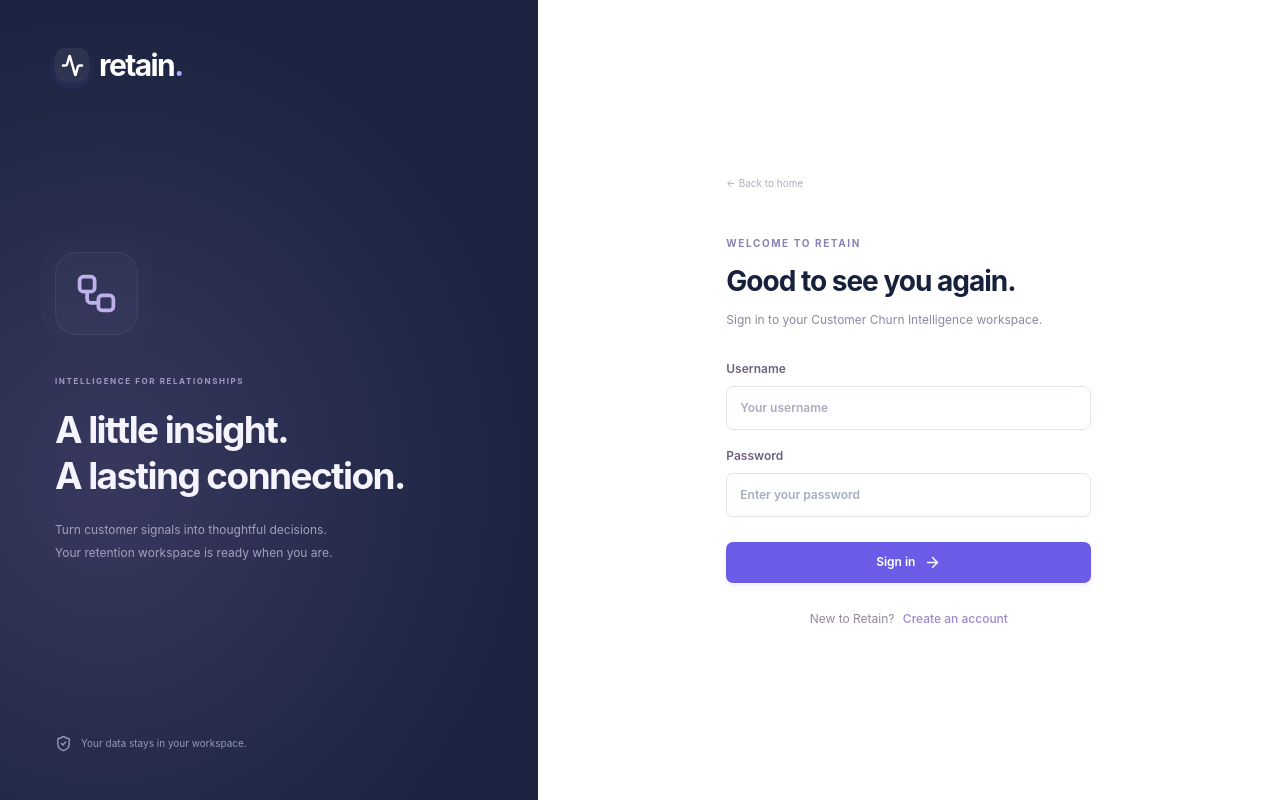
Test case: authentication › displays a rejected login
Type "analyst" into the field labelled "Username" at (909, 408), box [726,386,1091,430]
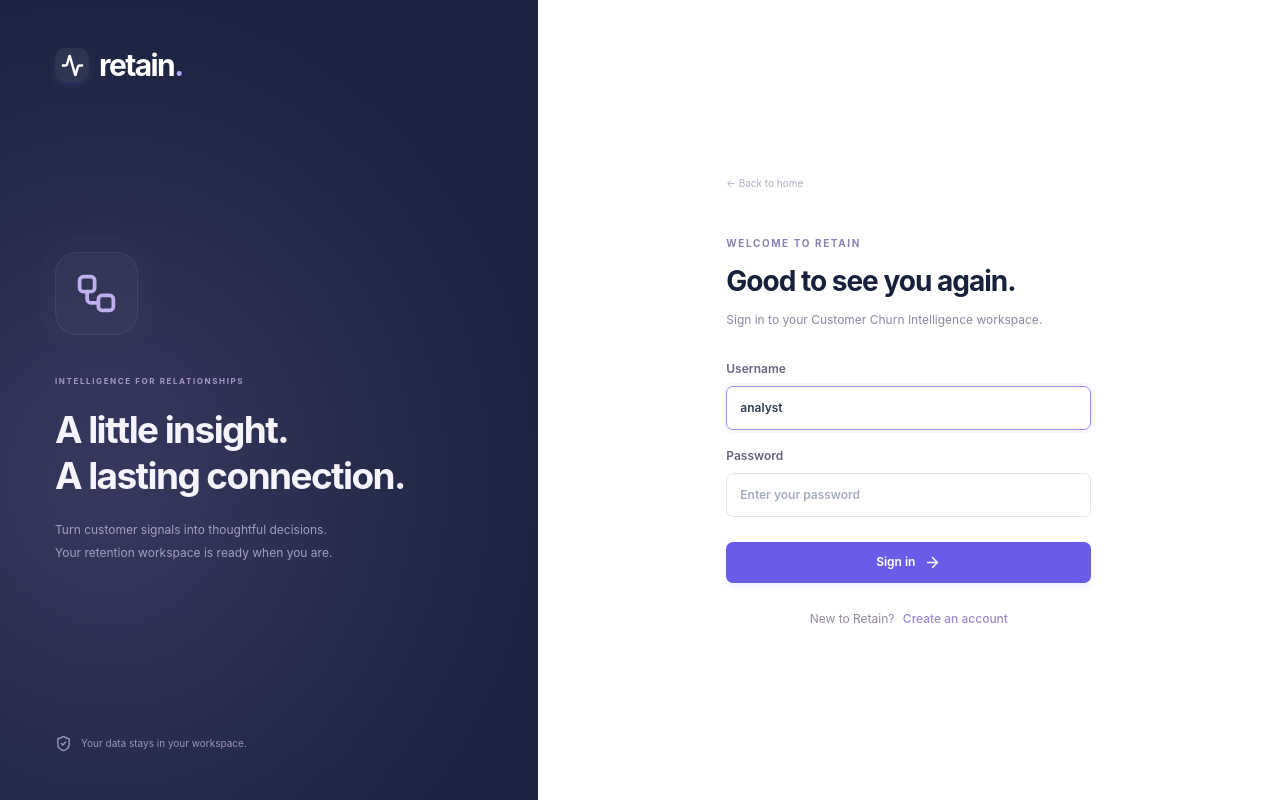
Type "bad" into the password field labelled "Password" at (909, 495), box [726,473,1091,517]
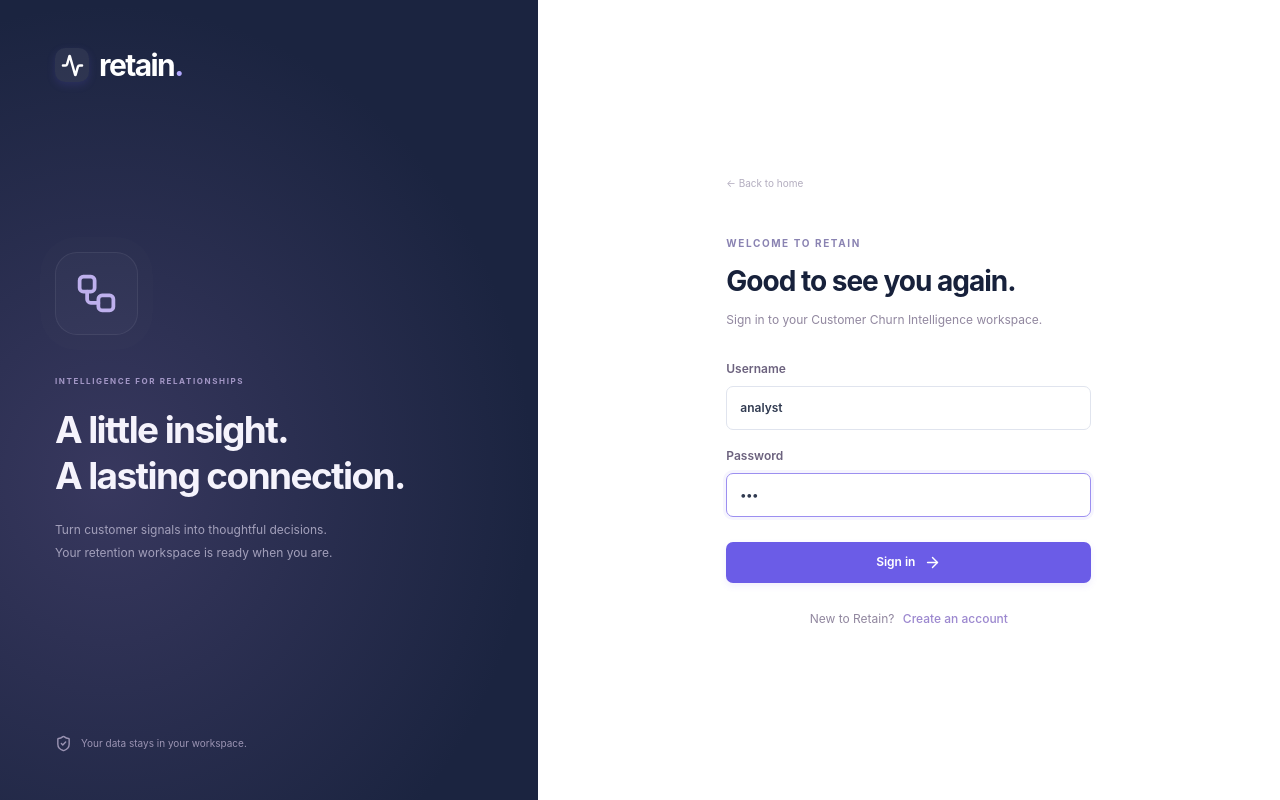
Click the button "Sign in" at (909, 562), box [726,542,1091,583]
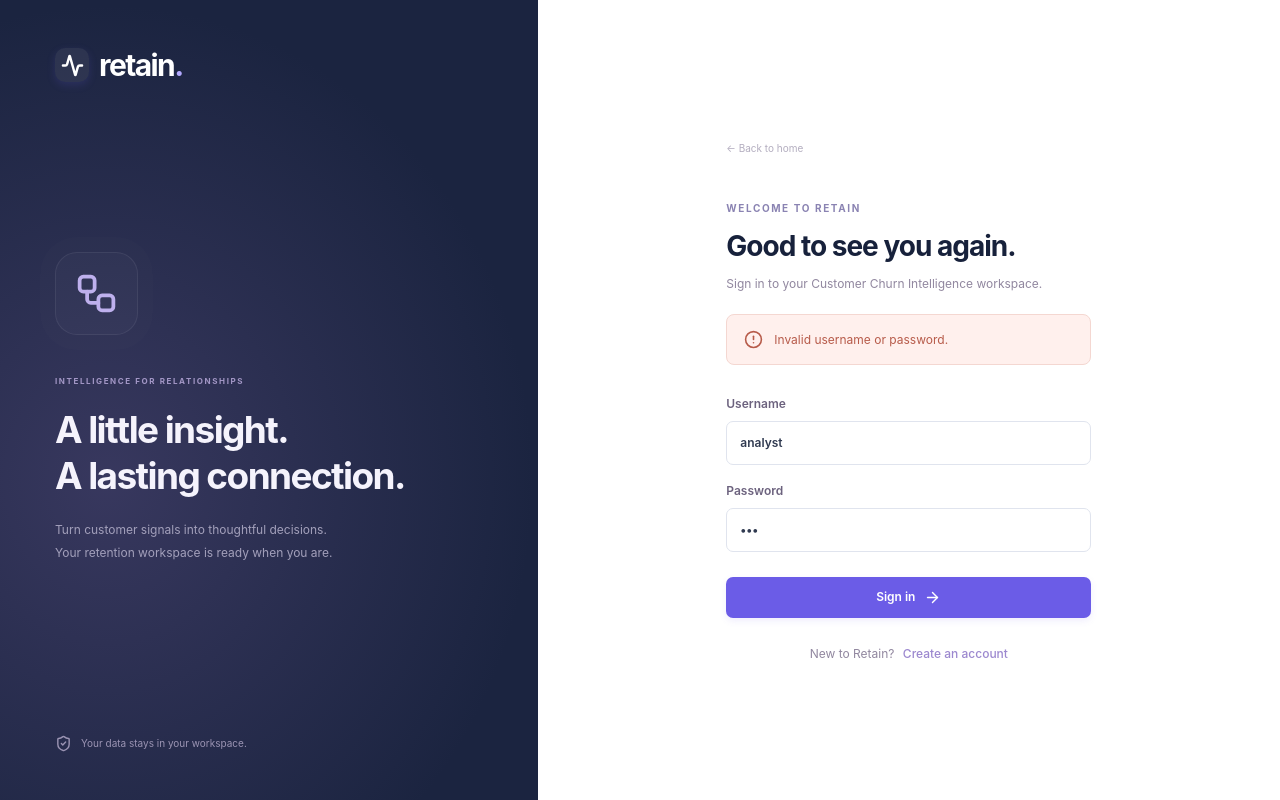
Expected: the message reads "Invalid username or password.", [774,332,948,347]
